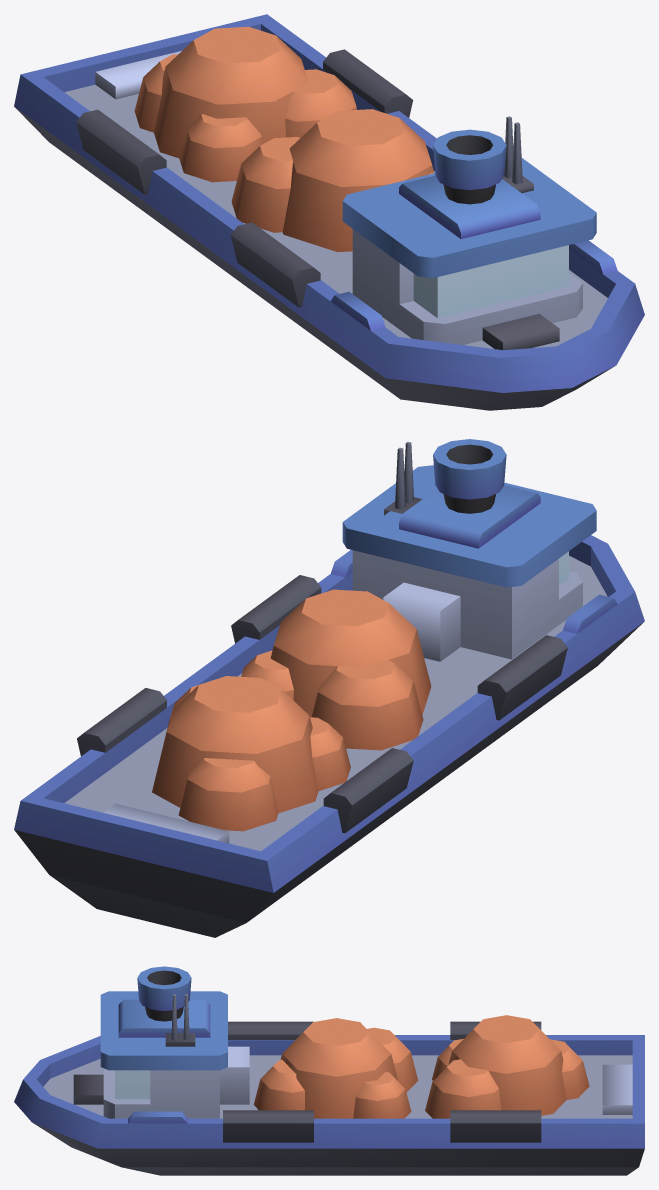
Rendered from ship-cargo-b.glb.
3 renders of one model, top to bottom at view 1: azimuth 30°, elevation 25°; view 2: azimuth 150°, elevation 25°; view 3: azimuth 270°, elevation 25°, orthographic. The views are drawn at different scales.
Visible parts, largest first — view 1: ship-cargo-b; view 2: ship-cargo-b; view 3: ship-cargo-b.
Boxes of the visible parts, box(x1,y1,x2,y2) form: ship-cargo-b: box(14, 14, 644, 410); ship-cargo-b: box(14, 439, 644, 937); ship-cargo-b: box(14, 966, 644, 1175).
Size of the model in its own units: 3.92 by 3.3 by 10.55.
1 material, 1 textured.
